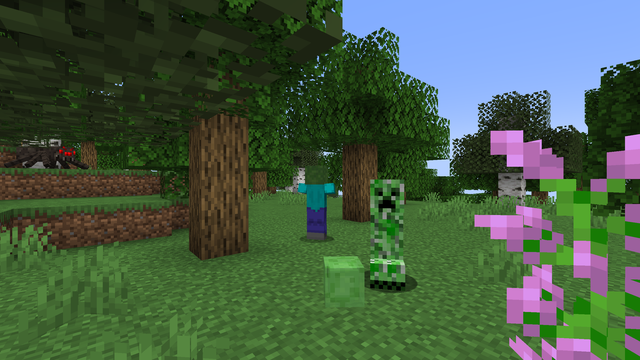araignees: (16, 143, 78, 164)
creepers: (359, 174, 412, 290)
slimes: (315, 252, 368, 311)
zombies: (301, 167, 331, 242)
